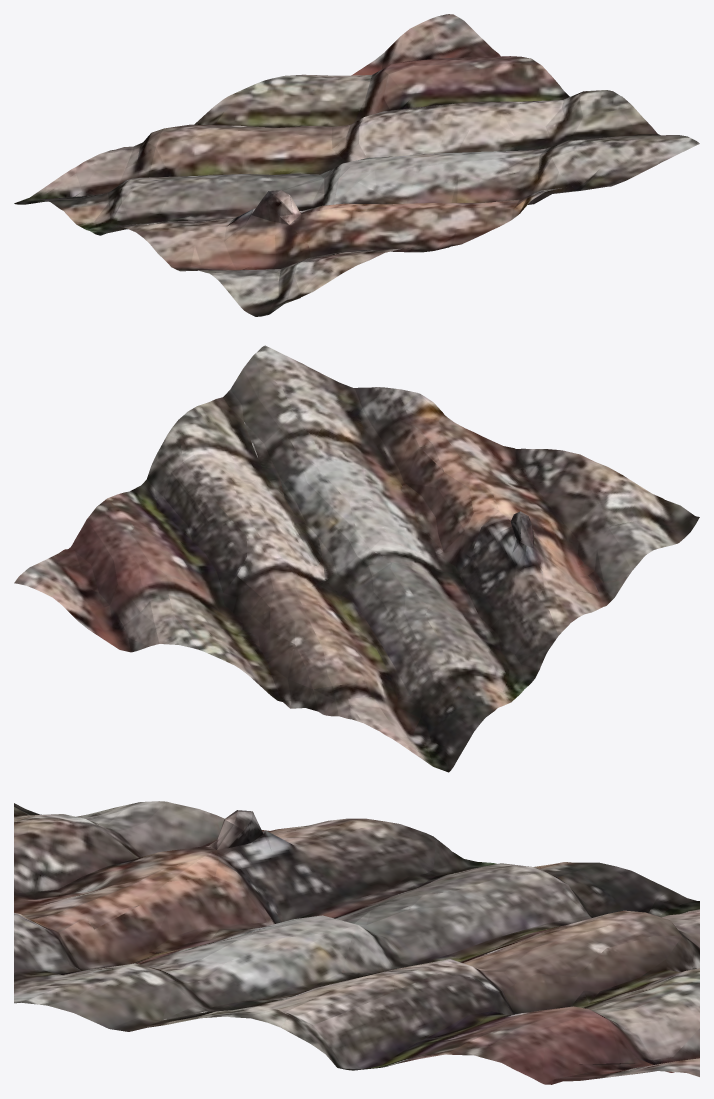
3 renders of one model, top to bottom at view 1: azimuth 30°, elevation 25°; view 2: azimuth 150°, elevation 25°; view 3: azimuth 270°, elevation 25°, orthographic. The views are drawn at different scales.
Size of the model in its own units: 0.8374 by 0.2534 by 0.8374.
Materials: 3 (3 with a texture image).
